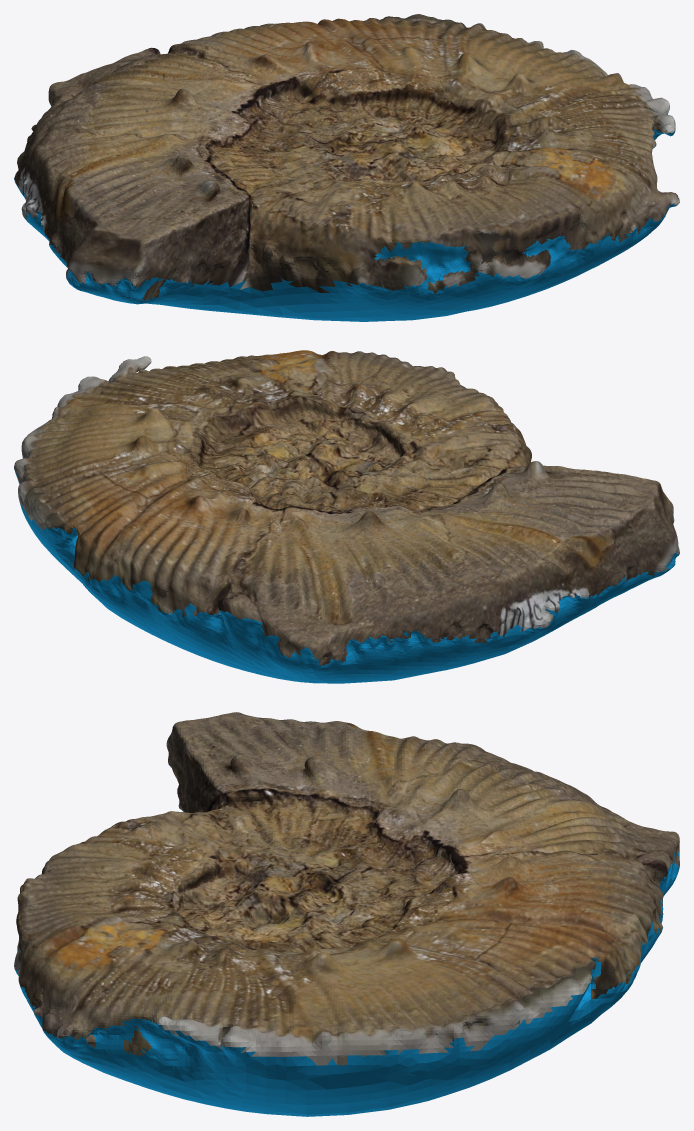
The model's file is PUC-197.glb.
3 views of the same model, one above another, from view 1: azimuth 30°, elevation 25°; view 2: azimuth 150°, elevation 25°; view 3: azimuth 270°, elevation 25° (orthographic). The views are drawn at different scales.
Visible parts, largest first — view 1: PuC197V; view 2: PuC197V; view 3: PuC197V.
Part boxes in pixels (left/top/right/bottom): PuC197V: left=14, top=14, right=679, bottom=321; PuC197V: left=14, top=350, right=679, bottom=683; PuC197V: left=14, top=712, right=679, bottom=1116.
Size of the model in its own units: 61.95 by 18.09 by 52.46.
1 material, 1 textured.
